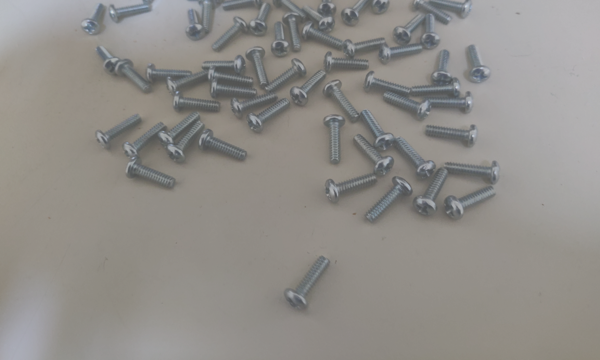shortscrew: (285, 255, 331, 310), (365, 177, 413, 224), (393, 137, 437, 180), (444, 186, 497, 221), (352, 134, 395, 177), (95, 113, 143, 150), (123, 122, 167, 161), (414, 168, 449, 217), (323, 80, 362, 122), (167, 120, 205, 163), (126, 157, 177, 189), (324, 174, 378, 204), (159, 112, 201, 149), (247, 98, 291, 133), (199, 130, 248, 161), (360, 109, 395, 152), (265, 59, 307, 94), (382, 92, 432, 121), (445, 161, 501, 186), (290, 70, 327, 107), (212, 17, 250, 53), (231, 93, 279, 120), (115, 59, 152, 94), (365, 71, 412, 98), (425, 125, 479, 148), (302, 22, 344, 51), (324, 113, 345, 165), (173, 91, 222, 113), (393, 13, 425, 46), (412, 78, 462, 99), (412, 0, 453, 25), (166, 71, 210, 94), (208, 66, 254, 88), (431, 91, 474, 114), (211, 79, 258, 100), (379, 42, 423, 64), (302, 6, 336, 34), (246, 47, 268, 90), (324, 52, 369, 72), (469, 45, 492, 84), (147, 63, 192, 82), (80, 3, 105, 37), (109, 3, 151, 23), (430, 0, 472, 20), (343, 38, 385, 58), (202, 55, 246, 74), (342, 0, 372, 27), (283, 12, 303, 51), (432, 50, 453, 86), (272, 0, 308, 21), (249, 2, 271, 36), (271, 22, 291, 58), (421, 14, 441, 49), (96, 45, 120, 74), (186, 9, 206, 41), (222, 0, 262, 12), (365, 0, 390, 15), (318, 0, 336, 17), (142, 0, 167, 5), (184, 0, 224, 2)
